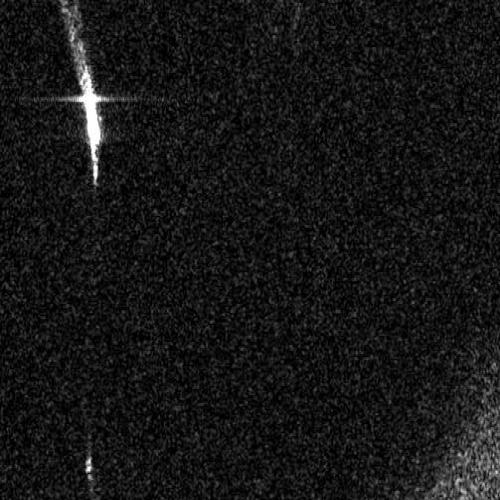ship: (79, 63, 102, 152)
